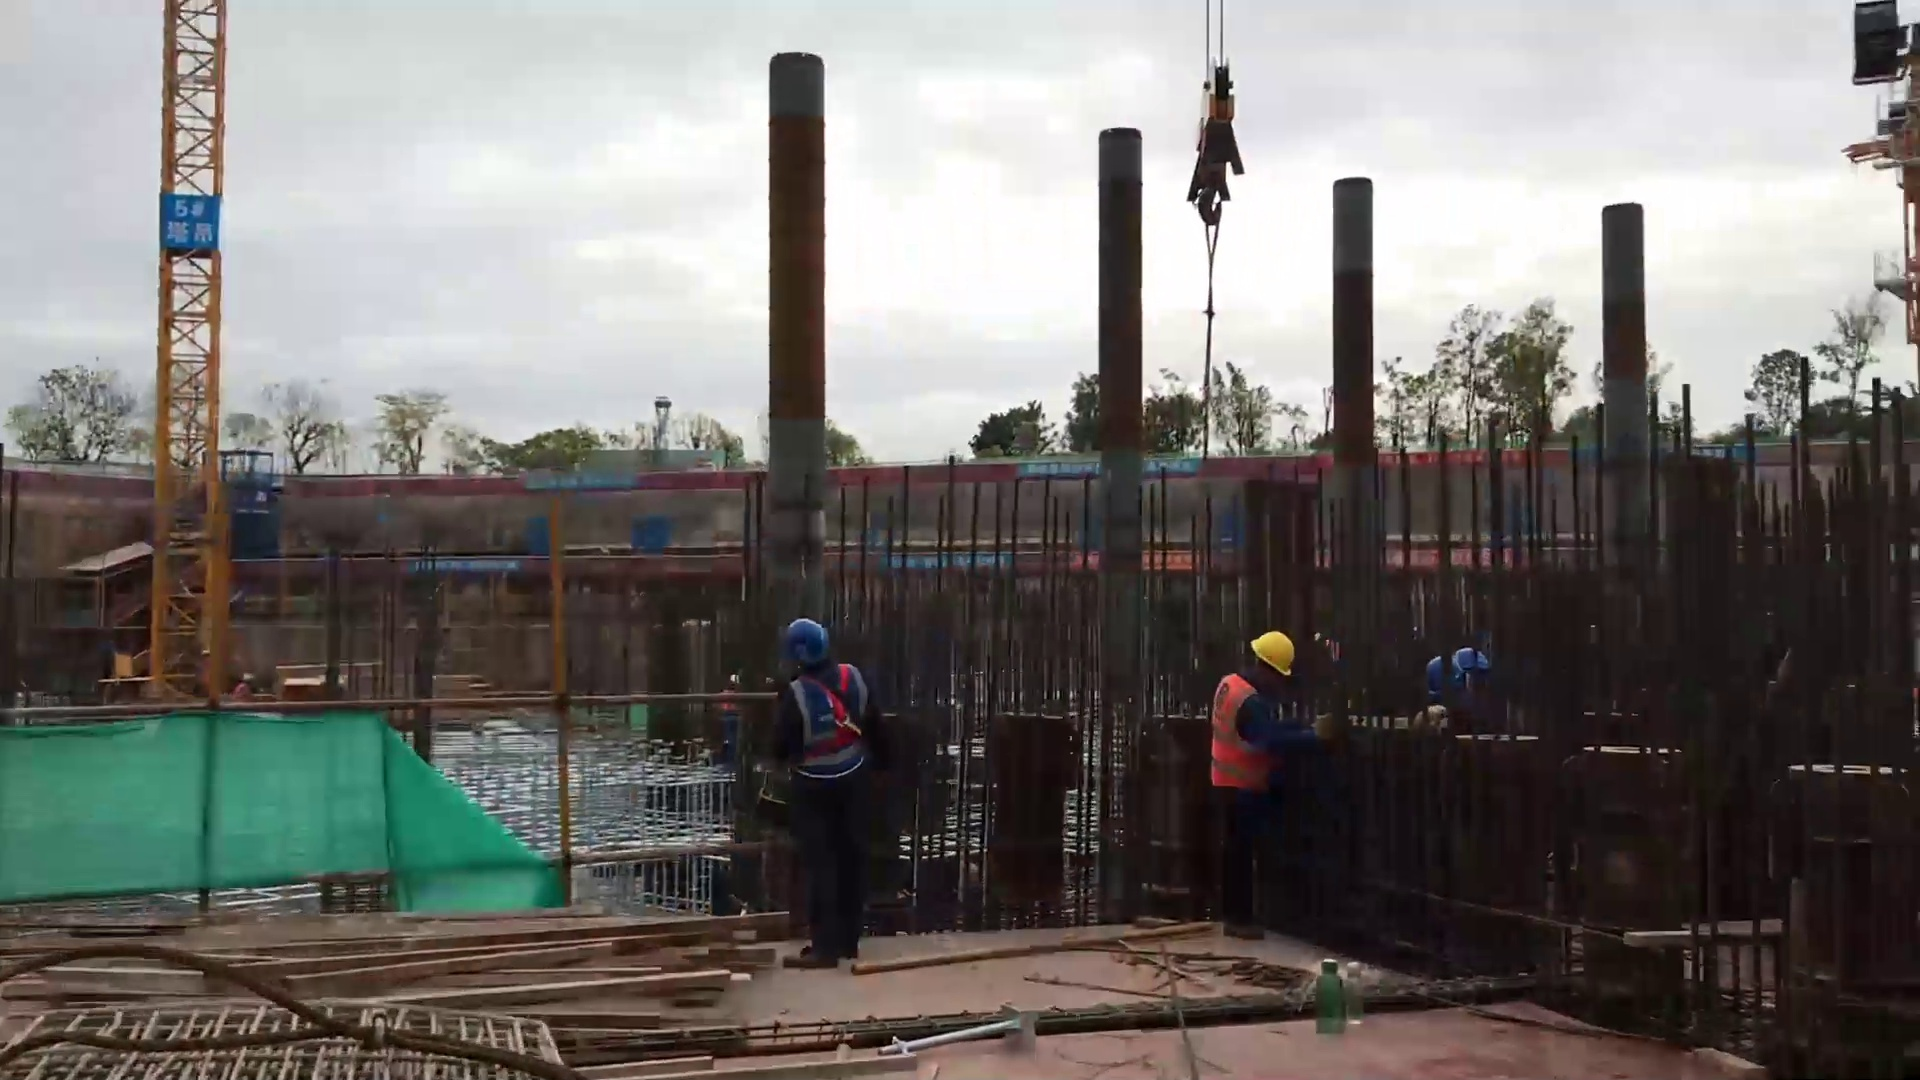helmet: (779, 617, 837, 679), (1247, 625, 1302, 688)
hook: (1172, 57, 1265, 247)
person: (773, 614, 890, 982), (1203, 630, 1335, 954)
vest: (1200, 667, 1287, 803), (785, 667, 869, 790)
